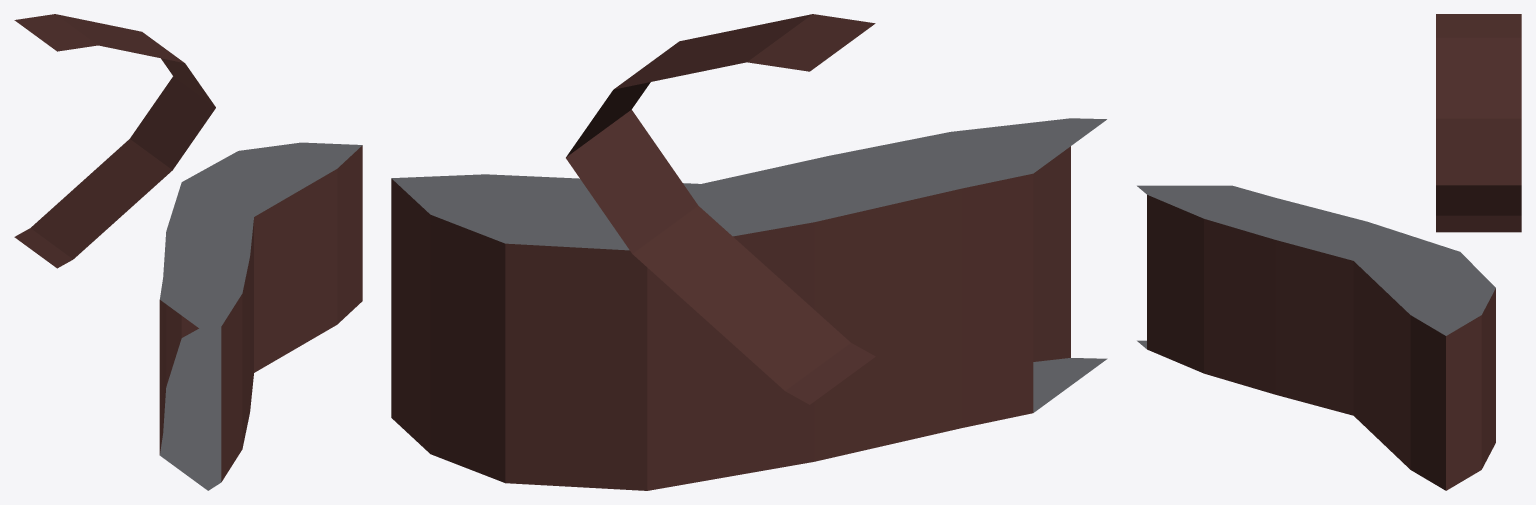
The model's file is section-0.obj.
3 views of the same model, side by side, from view 1: azimuth 30°, elevation 25°; view 2: azimuth 150°, elevation 25°; view 3: azimuth 270°, elevation 25° (orthographic). The views are drawn at different scales.
Bounding box in the file's own units: 0.5 × 0.506 × 0.541.
